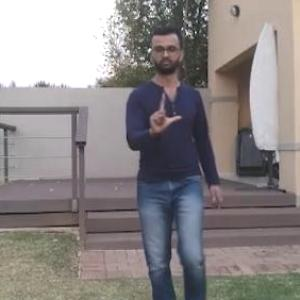land_hand: (144, 84, 185, 137)
